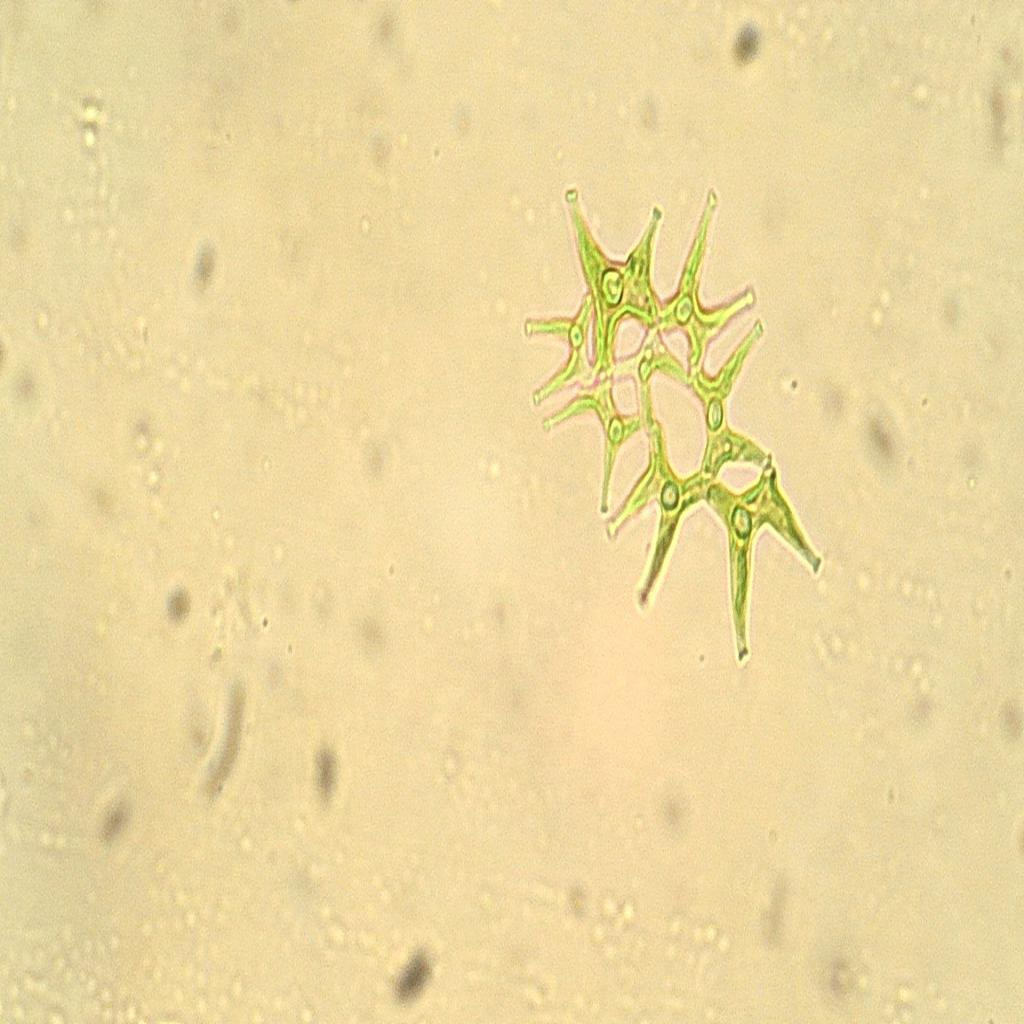Pediastrum_CFI: (522, 165, 835, 693)
